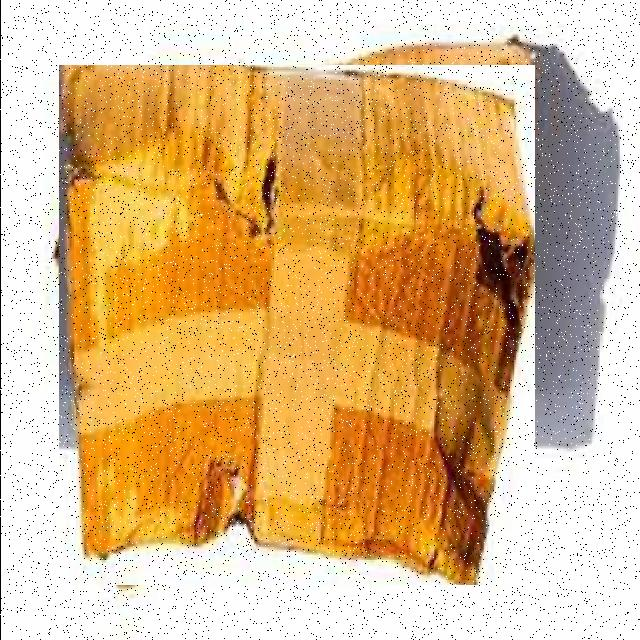defect: (58, 65, 534, 584)
